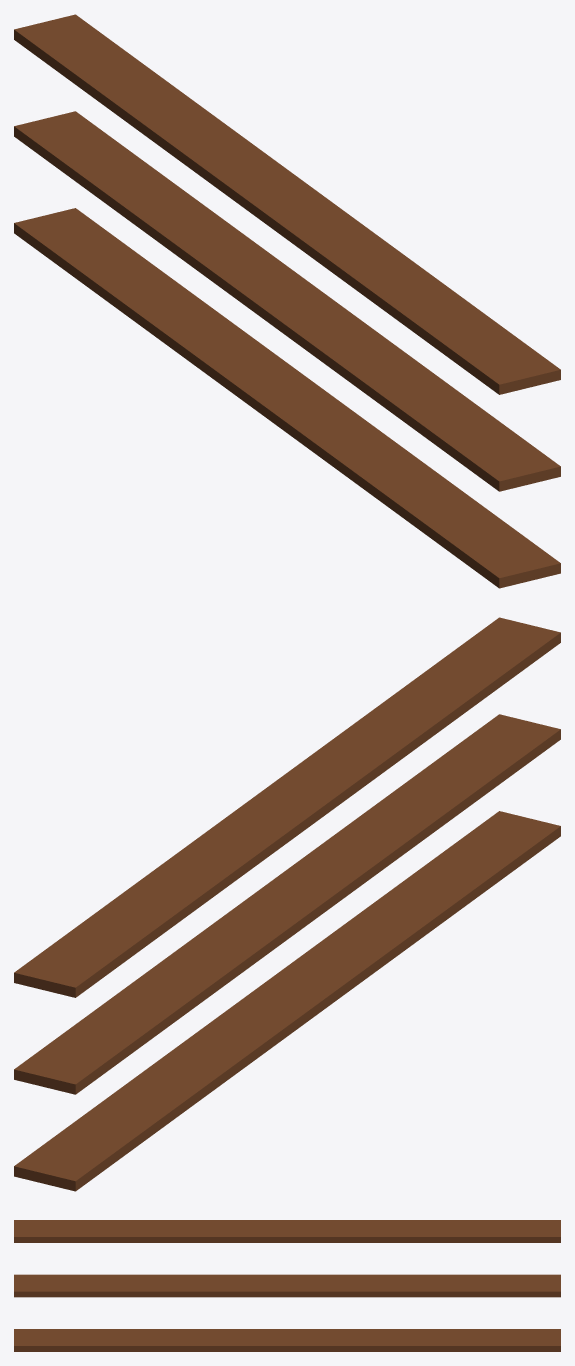
Rendered from Bar_BarTop.fbx.
The picture shows the model from 3 angles, top to bottom: view 1: azimuth 30°, elevation 25°; view 2: azimuth 150°, elevation 25°; view 3: azimuth 270°, elevation 25°; orthographic projection. The views are drawn at different scales.
Parts seen in each view (by area): view 1: BarShelf0.001; view 2: BarShelf0.001; view 3: BarShelf0.001.
Boxes of the visible parts, <box> form: BarShelf0.001: <box>14,14,560,588</box>; BarShelf0.001: <box>14,617,560,1191</box>; BarShelf0.001: <box>14,1220,560,1351</box>.
Bounding box in the file's own units: 220 × 695 × 3000.
